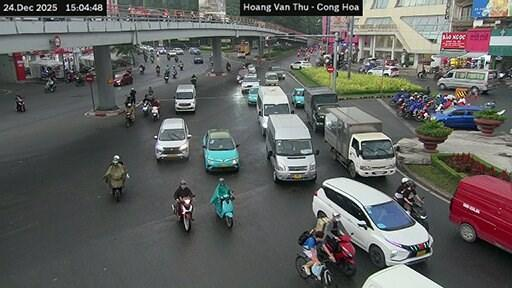motorbike: (294, 251, 335, 287), (323, 232, 355, 275), (214, 183, 233, 226), (172, 198, 192, 230), (410, 199, 428, 229), (409, 201, 428, 229), (416, 100, 434, 120), (387, 91, 403, 107), (141, 100, 150, 116), (150, 106, 159, 121), (124, 112, 133, 126), (112, 187, 121, 201), (16, 97, 24, 111), (66, 72, 76, 81), (44, 82, 54, 91), (74, 76, 83, 85), (317, 248, 326, 256), (432, 72, 441, 80), (488, 100, 495, 108), (416, 71, 425, 77), (138, 67, 144, 73), (482, 102, 488, 108), (191, 77, 195, 85), (172, 70, 176, 77), (156, 67, 159, 76), (394, 197, 399, 202), (150, 54, 153, 62), (163, 73, 166, 81), (226, 66, 230, 72), (179, 63, 182, 70), (166, 54, 169, 59)
